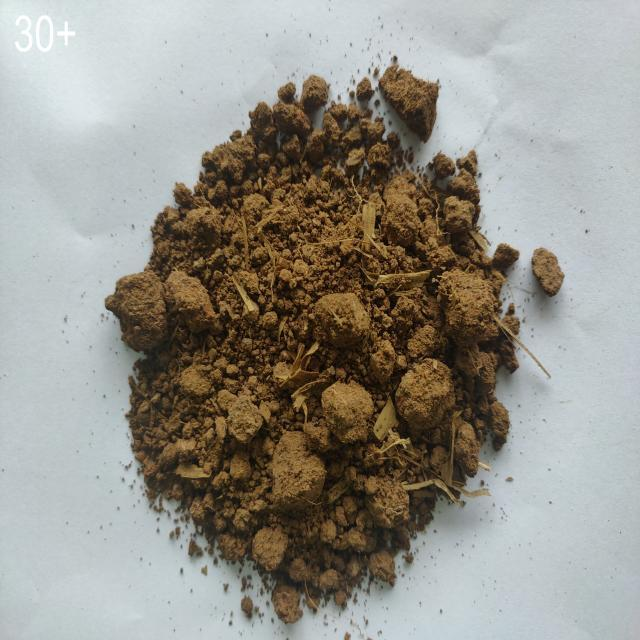soil: (224, 167, 435, 483)
